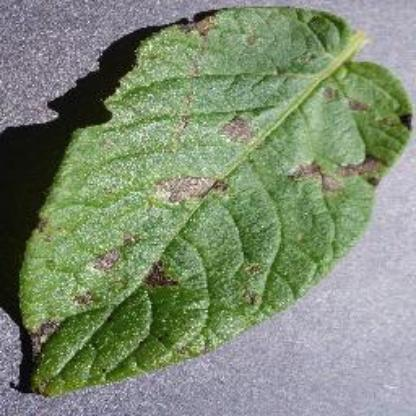Early-Blight: (16, 4, 410, 398)
